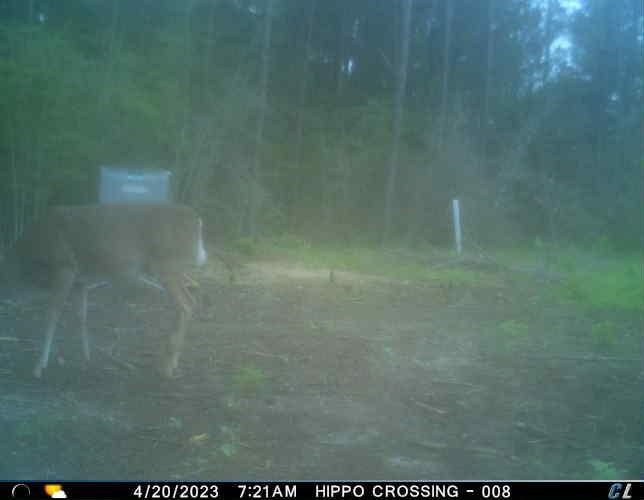Deer: (0, 201, 208, 384)
